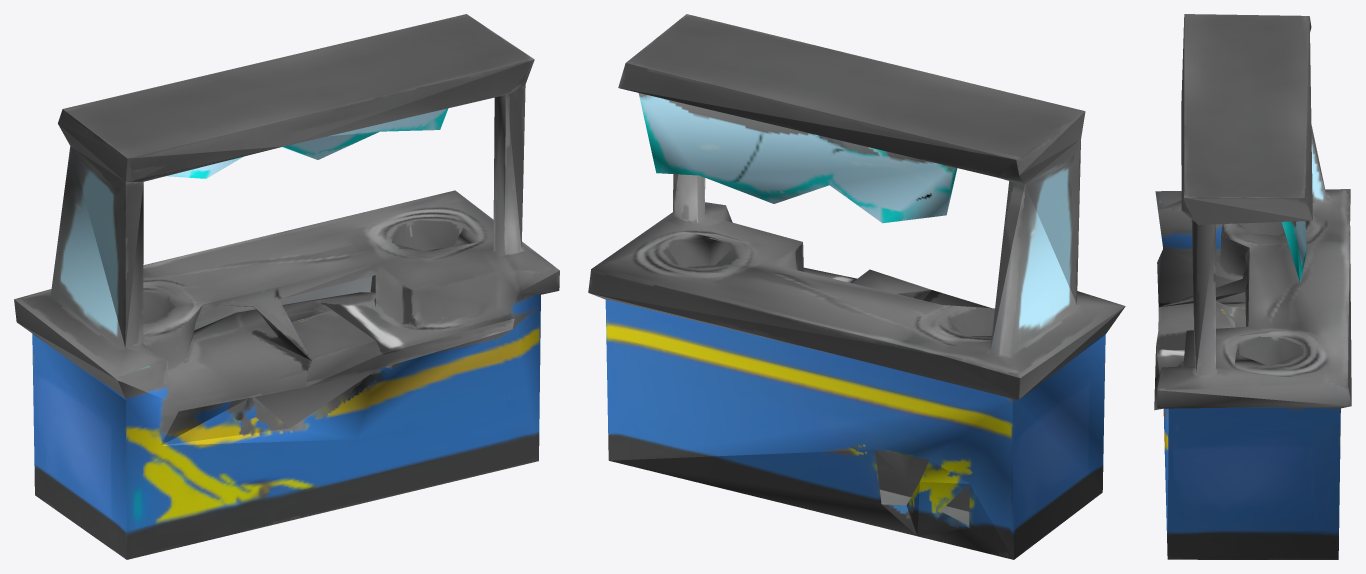
File: serving-counter-broken.glb
3 renders of one model, left to right at view 1: azimuth 30°, elevation 25°; view 2: azimuth 150°, elevation 25°; view 3: azimuth 270°, elevation 25°, orthographic. The views are drawn at different scales.
Parts seen in each view (by area): view 1: geometry_0.001; view 2: geometry_0.001; view 3: geometry_0.001.
Part boxes in pixels (x1=…): geometry_0.001: x1=14, y1=14, x2=559, y2=559; geometry_0.001: x1=588, y1=14, x2=1125, y2=559; geometry_0.001: x1=1154, y1=14, x2=1351, y2=559.
Bounding box in the file's own units: 1 × 0.8514 × 0.4174.
Materials: 1 (1 with a texture image).
